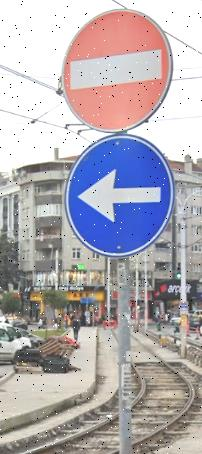turnleft: (69, 137, 173, 256)
